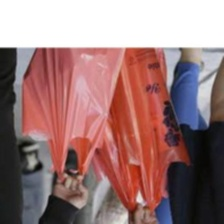plastic_bag: (75, 45, 195, 220), (15, 43, 130, 189)
